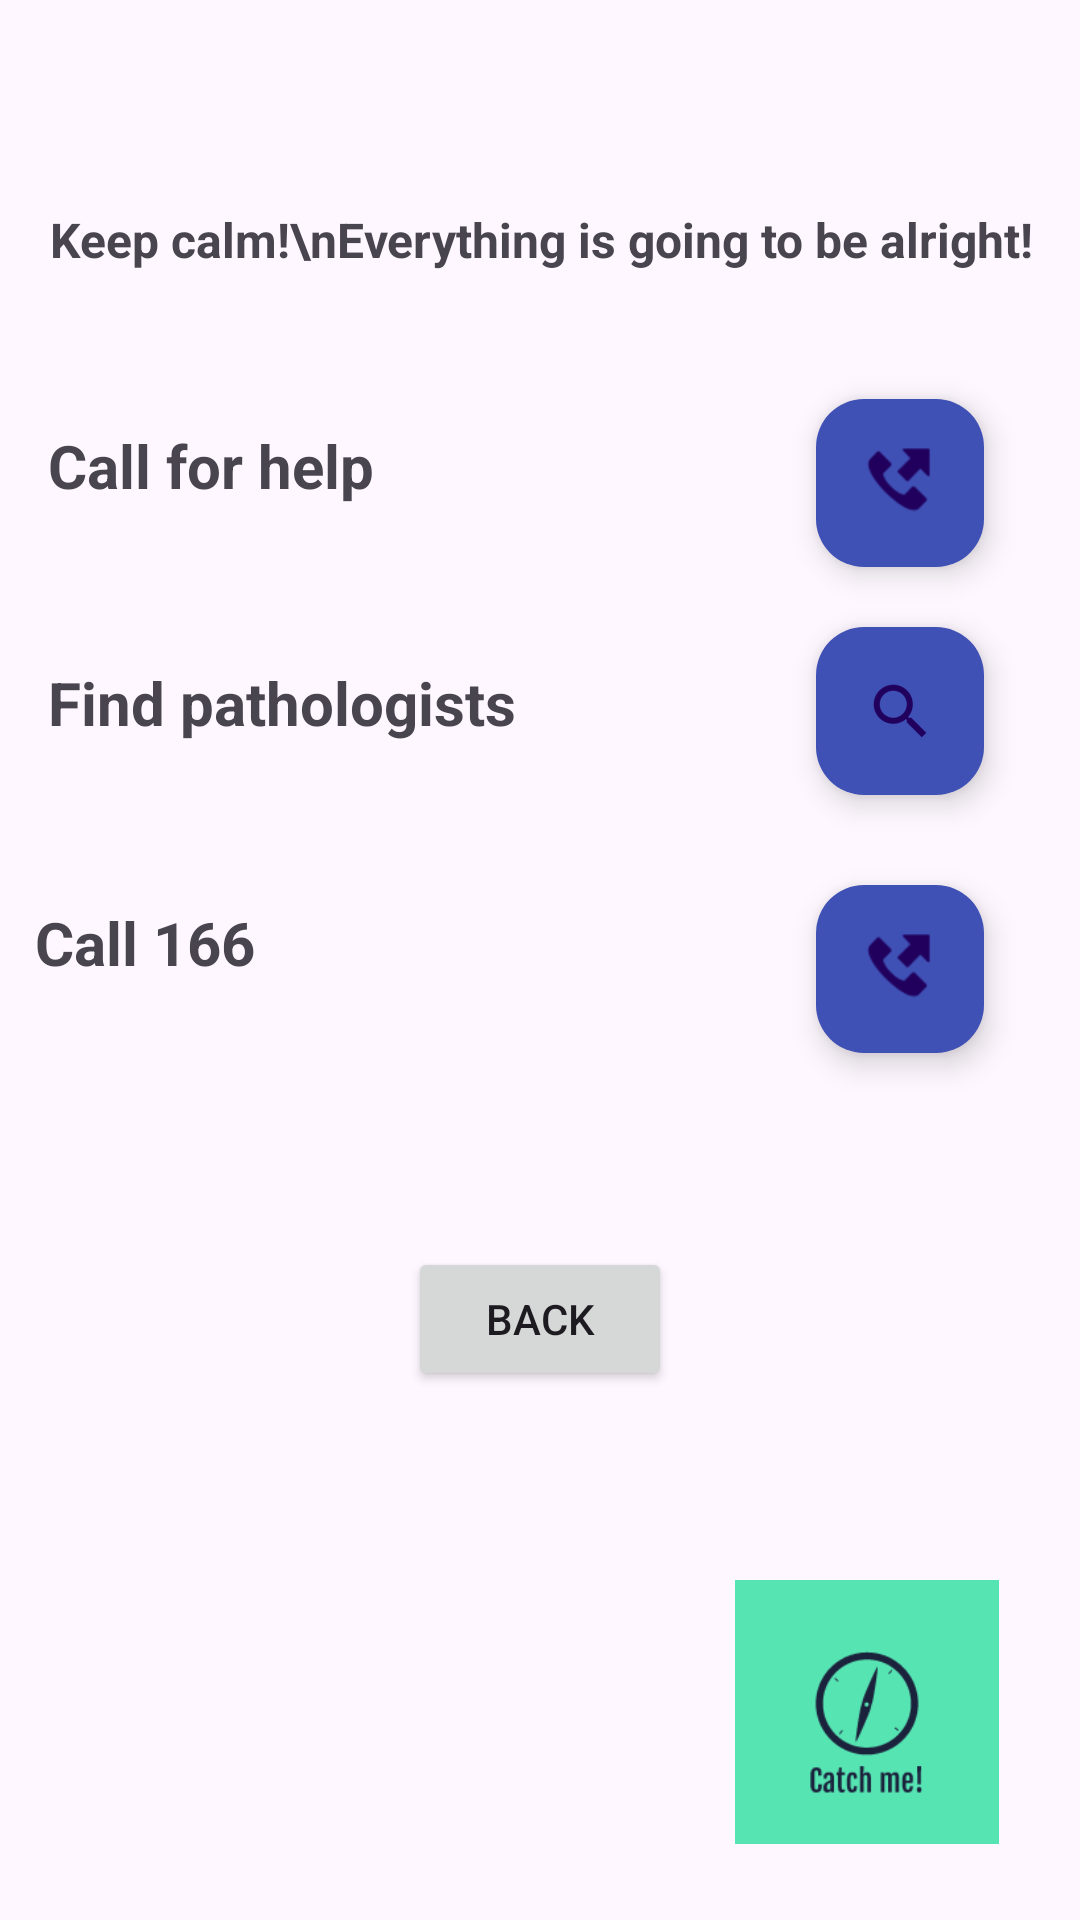

Icons on this 1080*1920 Android screen, each with the point to tap as (x=x, y=y):
Call someone: (x=900, y=483)
